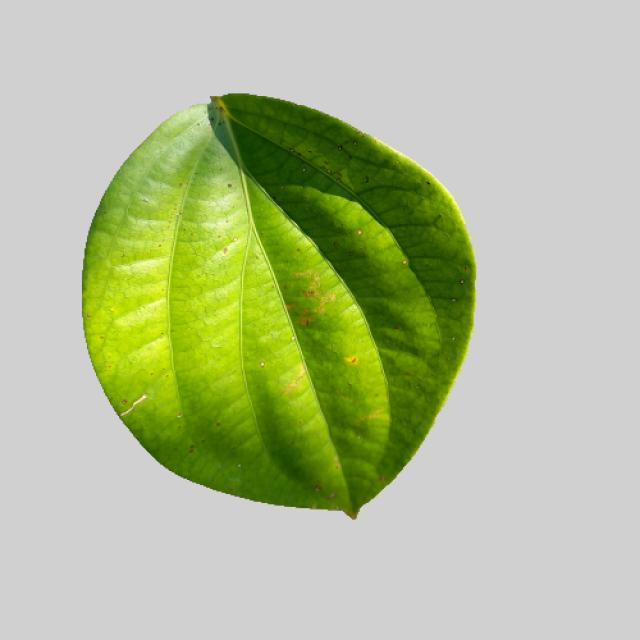healthy: (79, 87, 484, 525)
